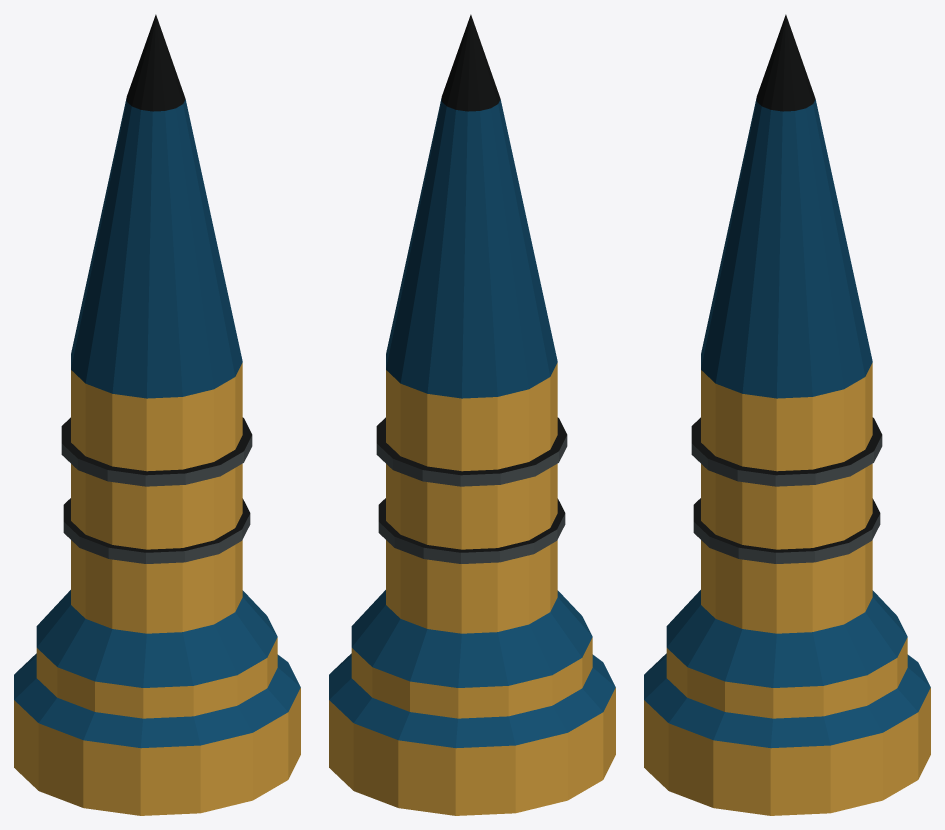
Rendered from CombatRocket.fbx.
3 renders of one model, left to right at view 1: azimuth 30°, elevation 25°; view 2: azimuth 150°, elevation 25°; view 3: azimuth 270°, elevation 25°, orthographic.
Visible parts, largest first — view 1: Cylinder; view 2: Cylinder; view 3: Cylinder.
Part boxes in pixels (x1,y1,x2,y2): Cylinder: [14, 14, 300, 815]; Cylinder: [329, 14, 615, 815]; Cylinder: [644, 14, 930, 815].
Bounding box in the file's own units: 332 × 954 × 330.
